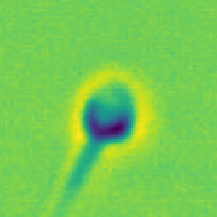normal: (37, 141, 108, 217)
